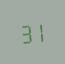one: (32, 20, 44, 42)
three: (19, 21, 31, 44)
